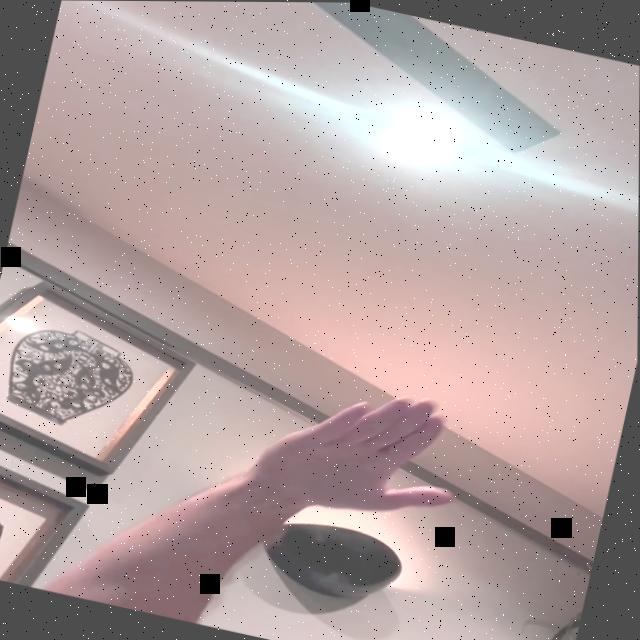Paper: (251, 364, 477, 536)
